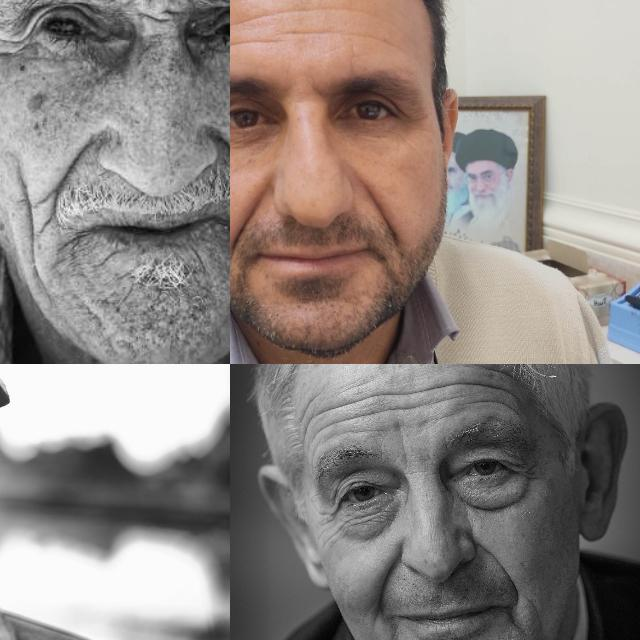chin: (187, 238, 215, 272), (96, 238, 120, 274)
crows_feet: (0, 26, 39, 66), (508, 454, 542, 496), (314, 507, 348, 537)
forehead: (313, 400, 382, 440), (386, 384, 446, 418), (454, 370, 512, 404), (279, 18, 331, 54), (277, 0, 332, 25), (358, 26, 398, 54), (230, 6, 266, 34), (230, 34, 265, 53)
frown_line: (136, 5, 174, 31), (394, 437, 418, 475), (136, 0, 183, 13)
gummy_smile: (358, 174, 402, 236), (48, 133, 90, 191), (485, 542, 523, 592), (230, 188, 266, 240), (376, 552, 404, 604), (211, 126, 230, 200)
masseter: (14, 188, 52, 268)
